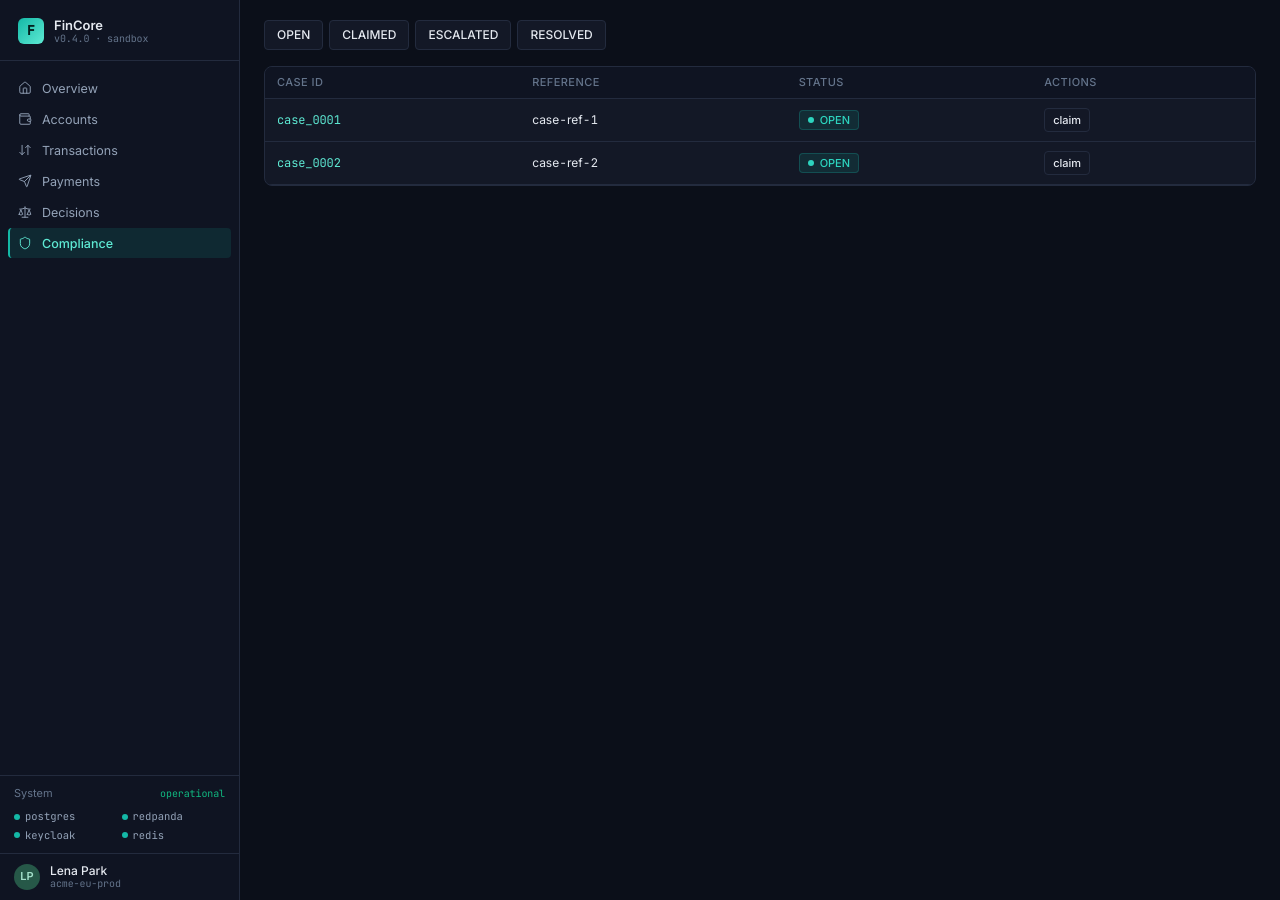
Test: Cases › clears a prior action error when switching status tabs
This screenshot has width=1280, height=900.
Expected: the text "case-ref-1" is shown, top-left (520, 99), bottom-right (787, 142)
Click the button "claim" in the row of "case_0001" at (1067, 120), box top-left (1044, 108), bottom-right (1090, 132)
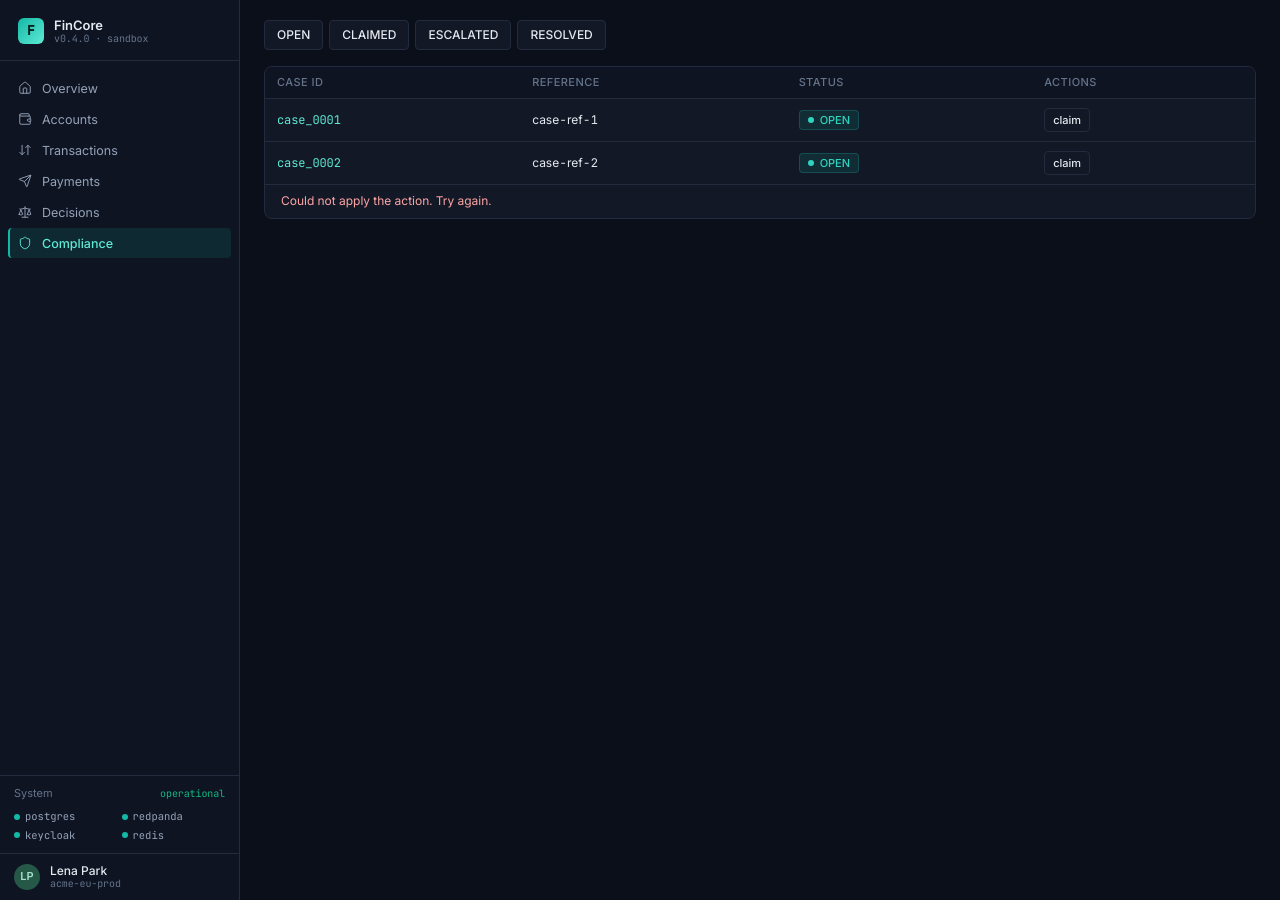
Expected: the message "Could not apply the action. Try again." is shown, top-left (281, 193), bottom-right (492, 208)
Click the tab "RESOLVED" at (562, 35), box top-left (518, 20), bottom-right (606, 50)
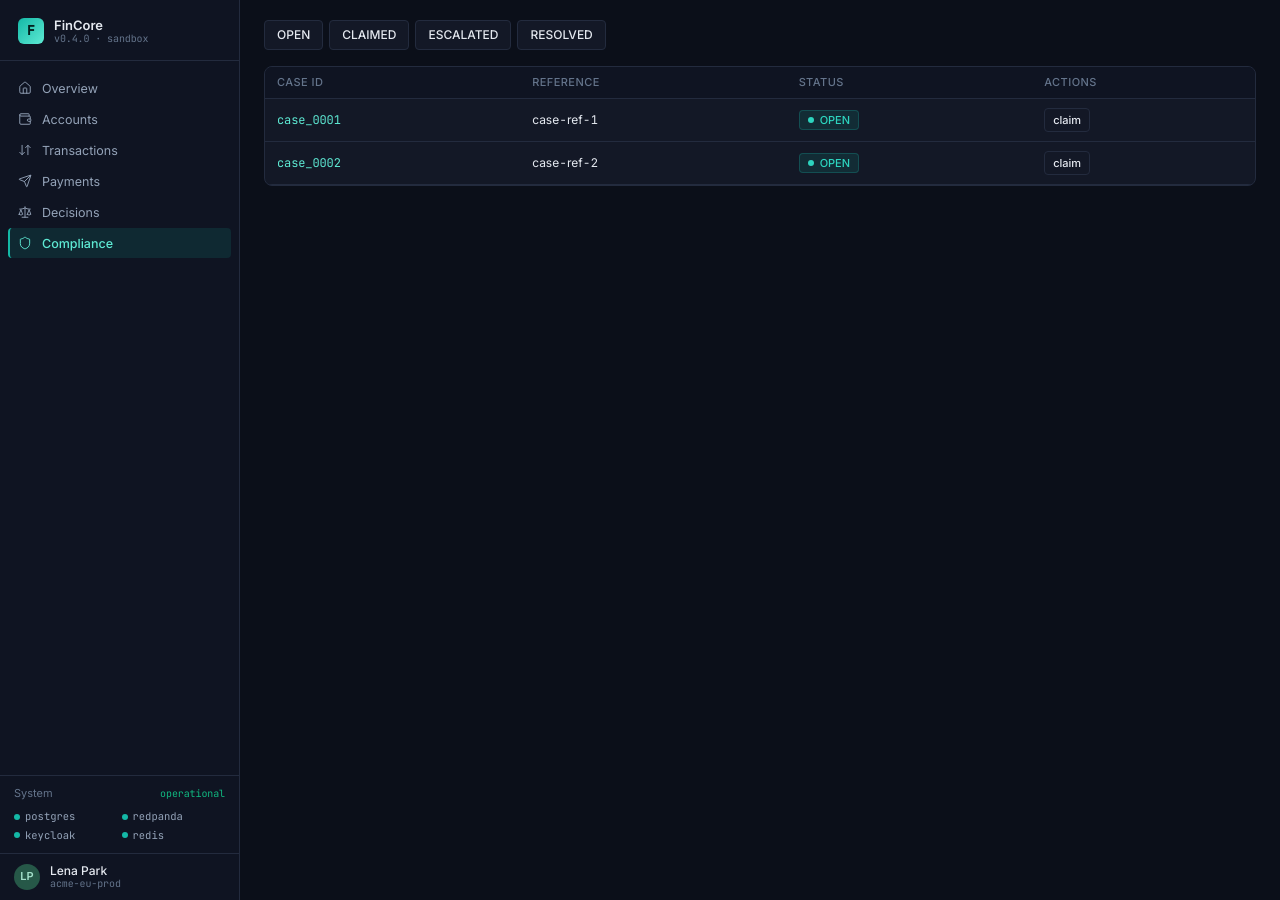
Expected: the message "Could not apply the action. Try again." is gone
